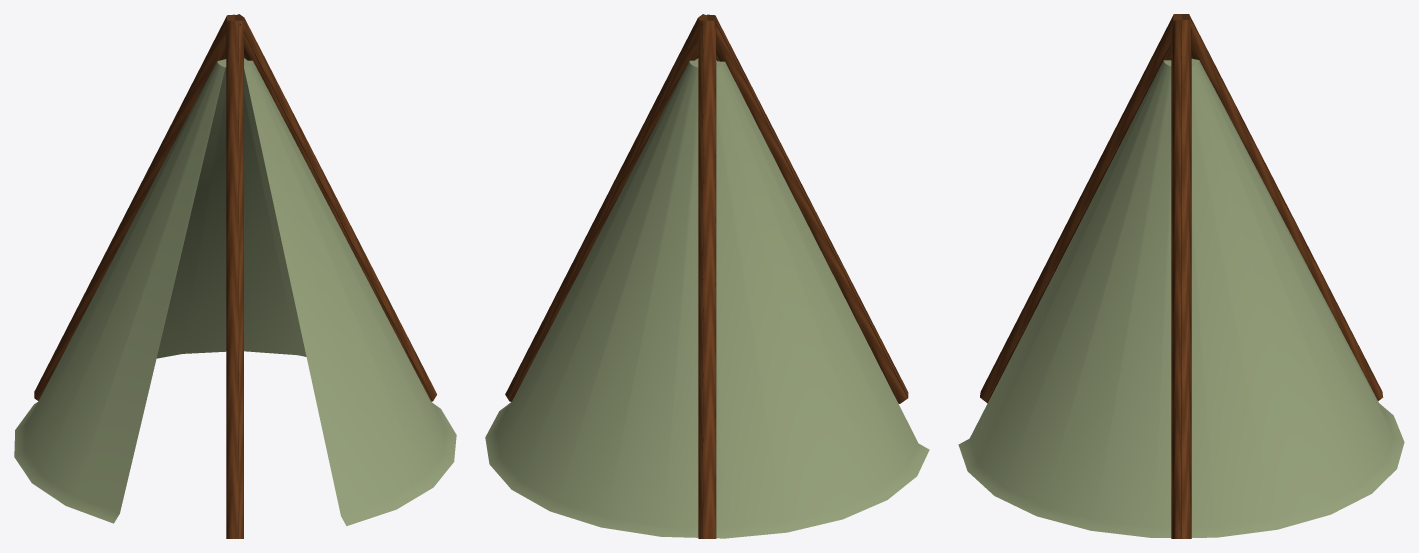
File: wilderness-survival-camp-tripod-hide-shelter-aa7f58f1__21938.glb
3 renders of one model, left to right at view 1: azimuth 30°, elevation 25°; view 2: azimuth 150°, elevation 25°; view 3: azimuth 270°, elevation 25°, orthographic.
Visible parts, largest first — view 1: tripod-hide-shelter; view 2: tripod-hide-shelter; view 3: tripod-hide-shelter.
Boxes of the visible parts, left/top/right/bottom form: tripod-hide-shelter: left=14, top=14, right=456, bottom=538; tripod-hide-shelter: left=485, top=14, right=929, bottom=538; tripod-hide-shelter: left=958, top=14, right=1404, bottom=538.
Bounding box in the file's own units: 2.03 × 2.14 × 2.
Materials: 2 (1 with a texture image).
